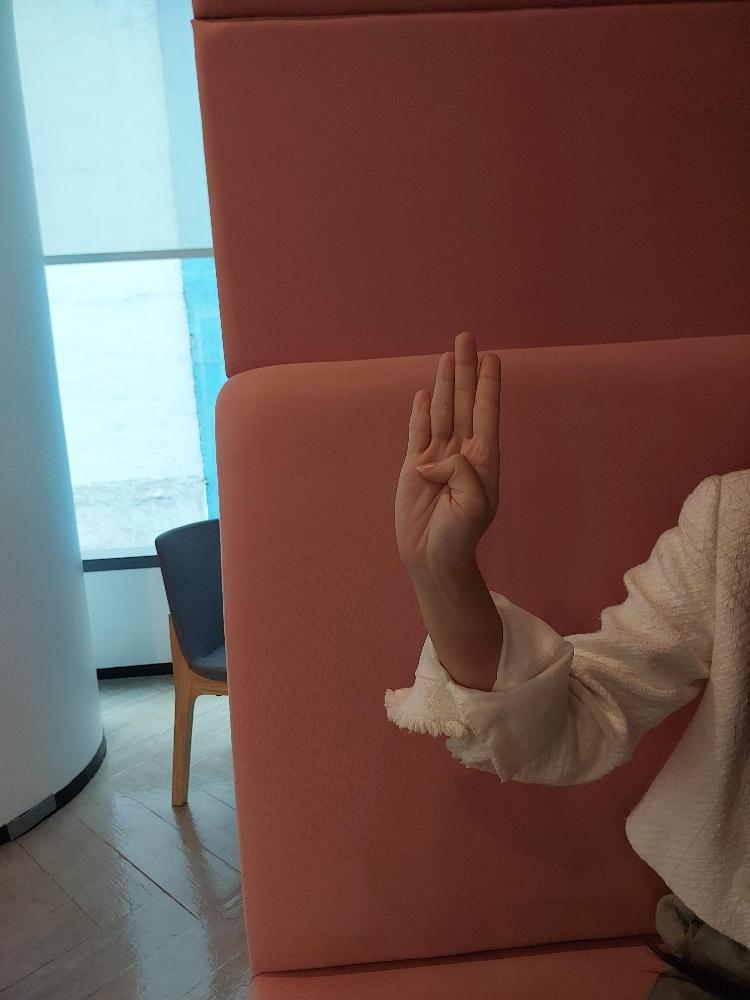b: (393, 330, 501, 556)
